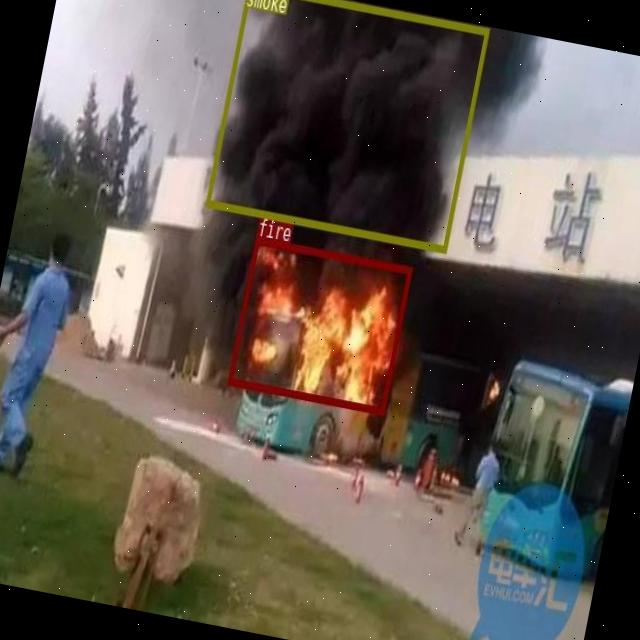fire: (227, 237, 412, 415)
smoke: (204, 0, 488, 253)
